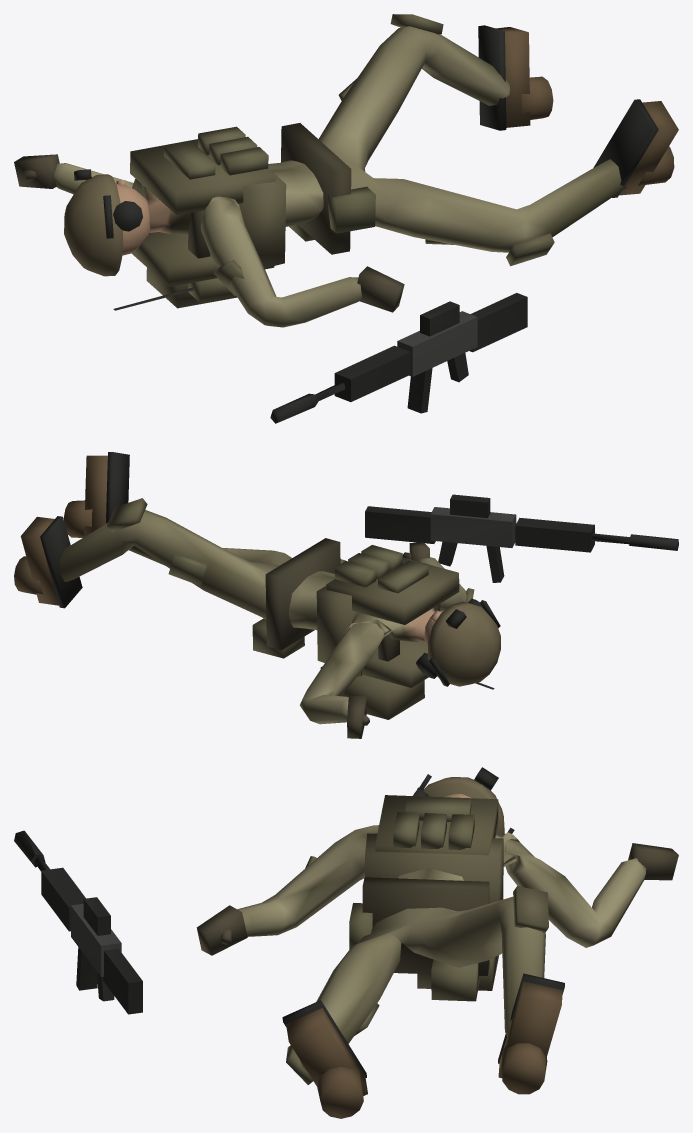
The model's file is soldier_dead_nato.glb.
3 renders of one model, top to bottom at view 1: azimuth 30°, elevation 25°; view 2: azimuth 150°, elevation 25°; view 3: azimuth 270°, elevation 25°, orthographic. The views are drawn at different scales.
Visible parts, largest first — view 1: soldier; view 2: soldier; view 3: soldier.
Boxes of the visible parts, box(x1,y1,x2,y2) form: soldier: box(14, 14, 678, 423); soldier: box(14, 452, 678, 738); soldier: box(14, 767, 678, 1118).
Size of the model in its own units: 1.71 by 0.5859 by 1.73.
